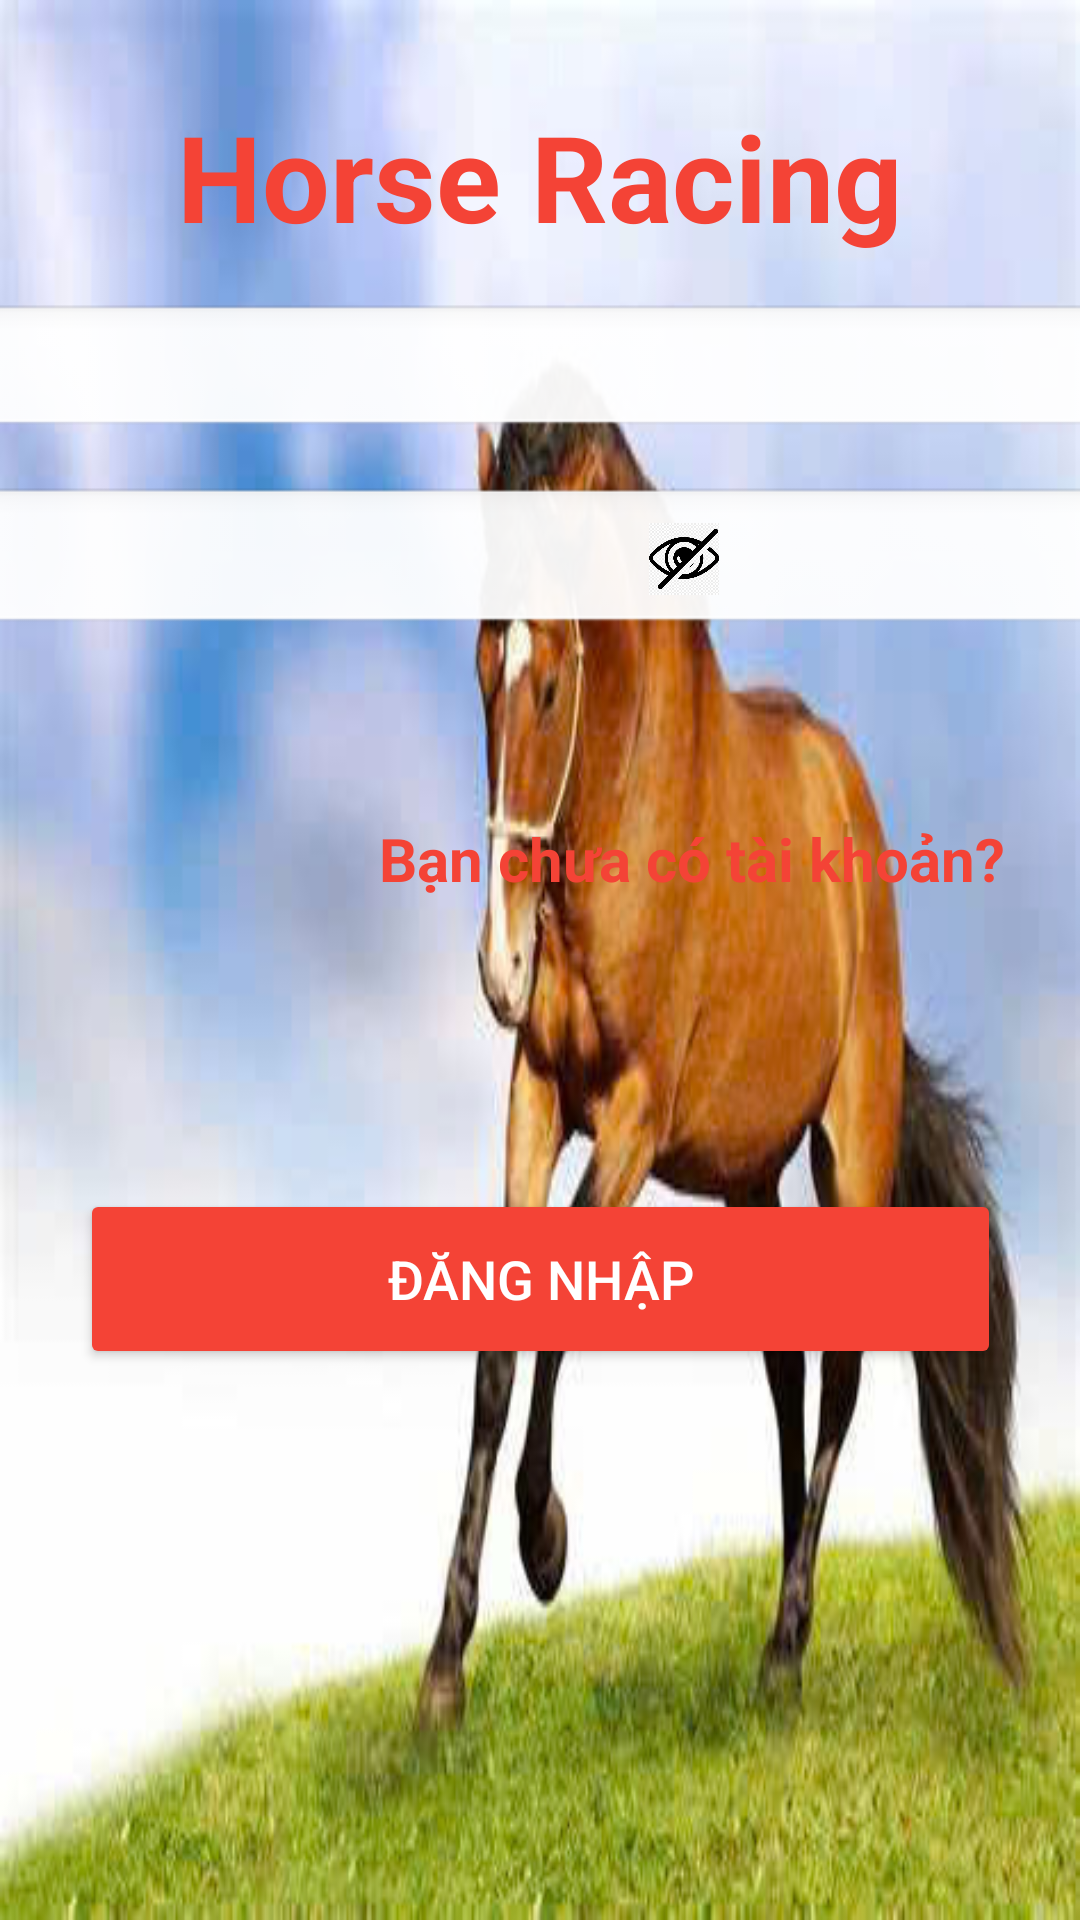

Icons on this 1080 x 1920 Android screen, each with its box as (x1, y1, x2, y2):
eye closed: (649, 529, 719, 589)
